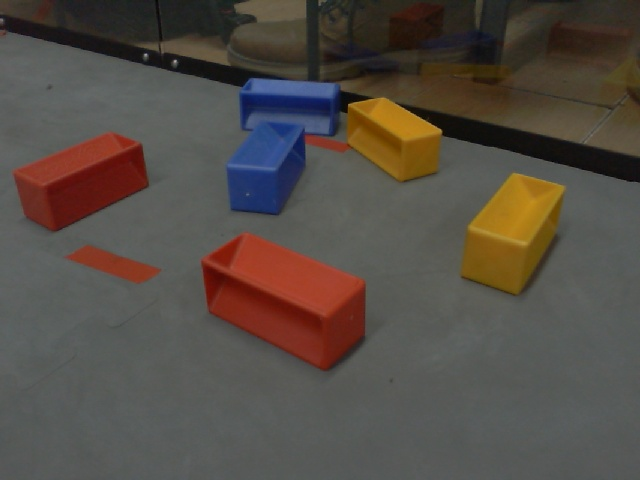BlueSample: (224, 118, 312, 221), (236, 74, 343, 139)
RedSample: (197, 228, 370, 372), (11, 132, 153, 230)
YellowSample: (459, 168, 568, 298), (345, 95, 447, 185)
